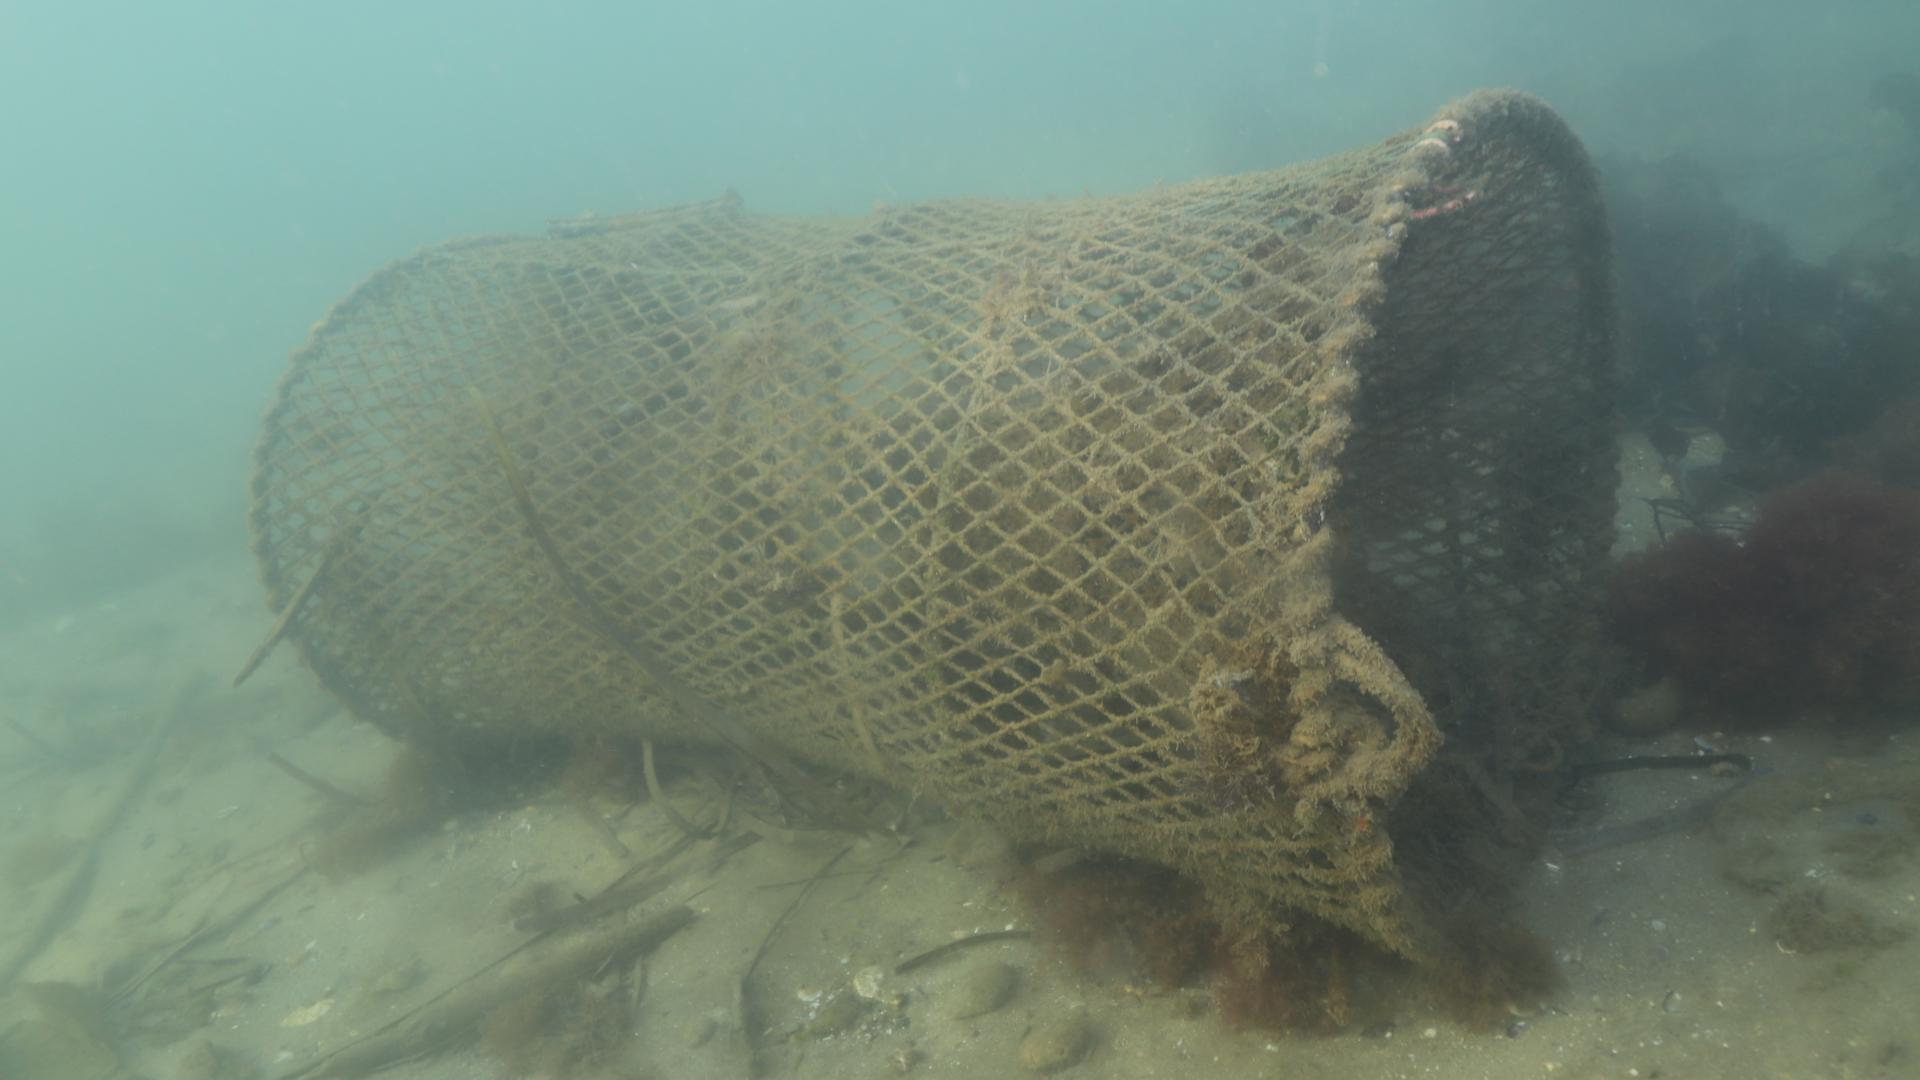spring fish trap: (243, 80, 1622, 993)
